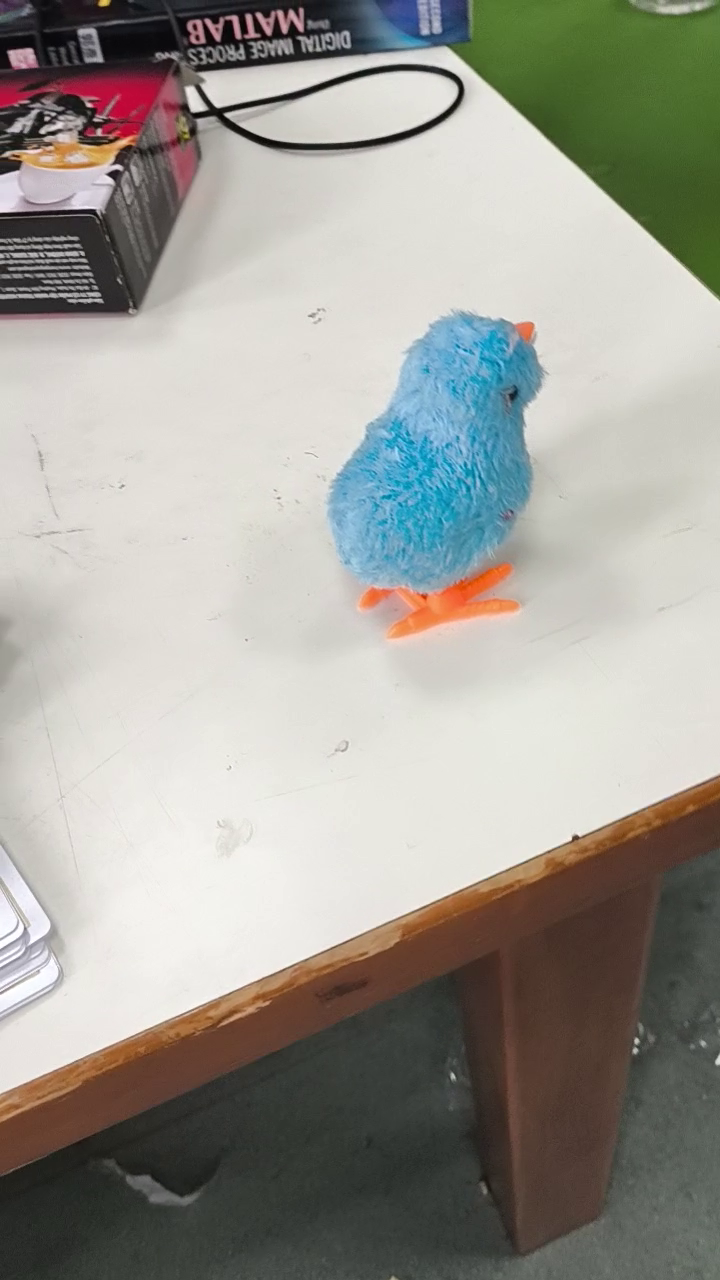blue chicken: (322, 303, 553, 644)
